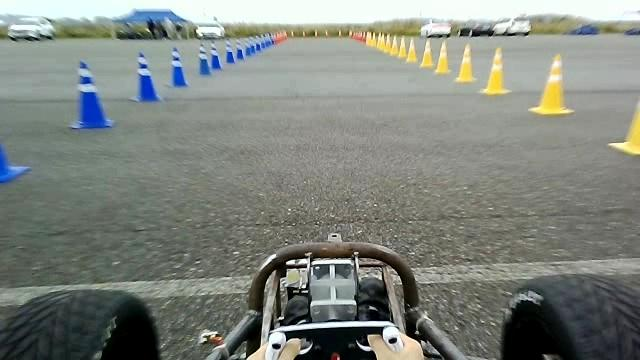blue cone: (69, 60, 113, 129), (129, 51, 161, 102), (167, 46, 189, 87), (197, 43, 211, 75), (209, 41, 222, 70), (224, 38, 235, 63), (235, 38, 244, 59)
yellow cone: (527, 53, 574, 115), (480, 46, 511, 95), (454, 43, 476, 83), (434, 40, 450, 74), (419, 38, 434, 68), (405, 37, 417, 63), (397, 35, 406, 58), (382, 35, 391, 54), (377, 33, 385, 51)
